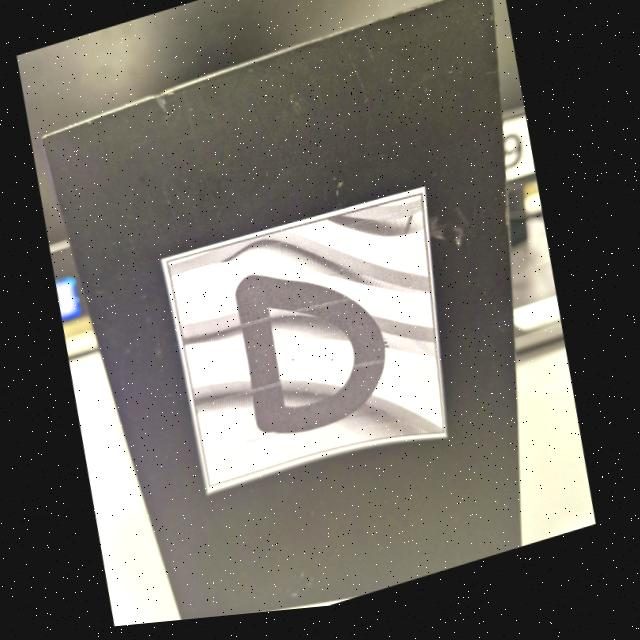D: (238, 280, 388, 439)
